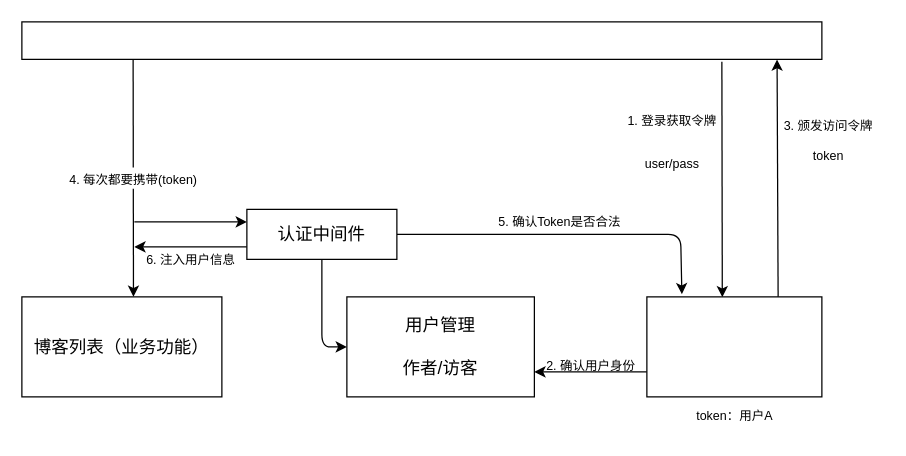
The diagram is 906 pixels wide and 456 high, and some of its shapes have lost their labels. Here are the shapes that lost their labels. From the top down, the centre of each, then its label:
At [421,40]: "浏览器".
At [734,346]: "Token管理 用户身份令牌".
